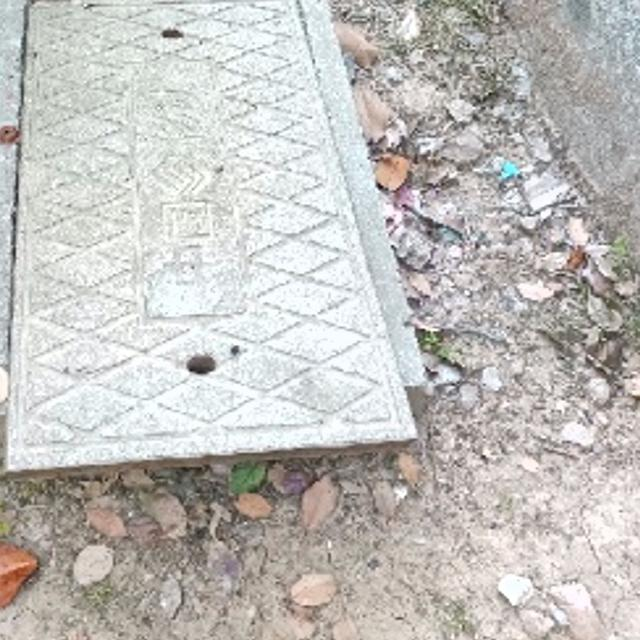uncovered: (0, 0, 433, 469)
